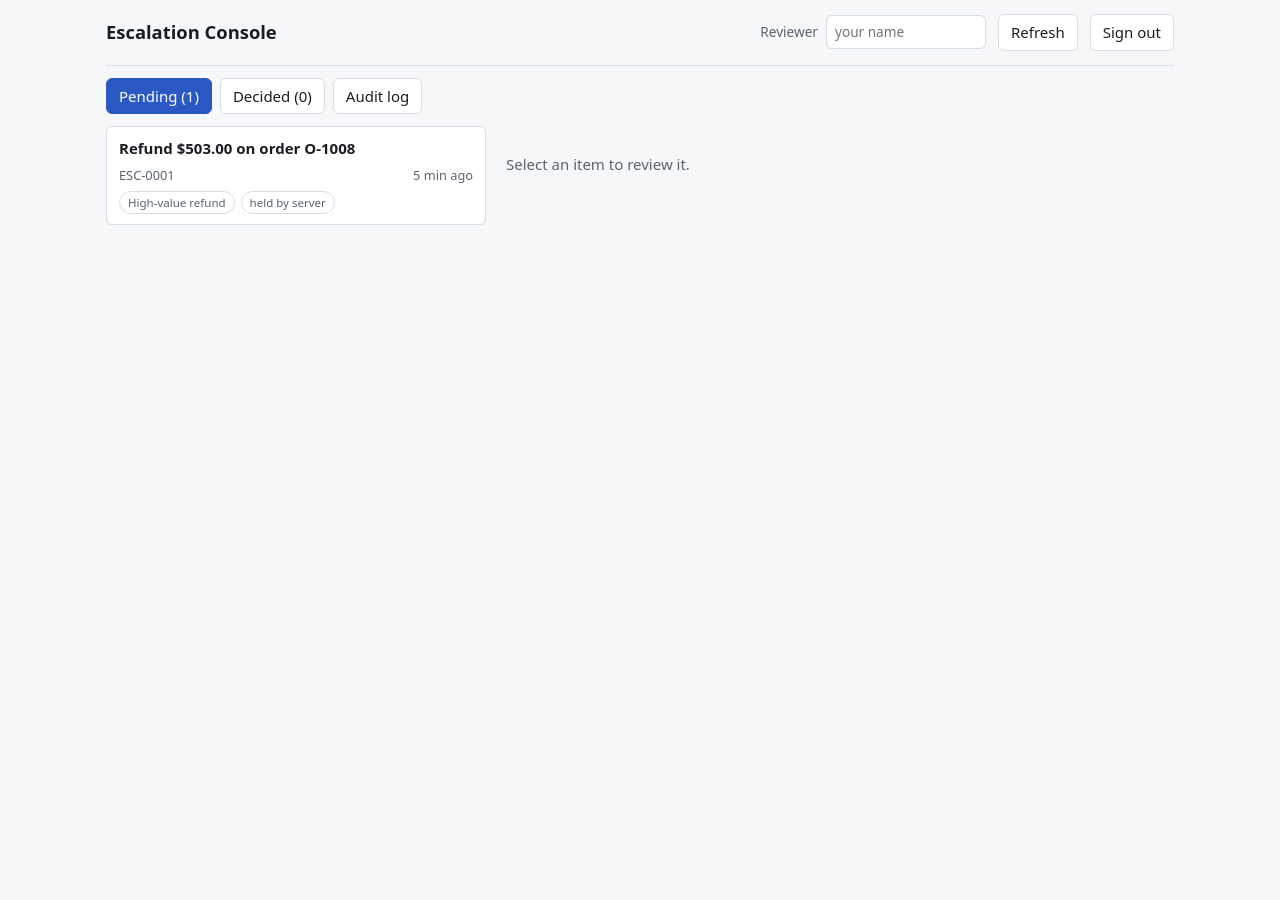
Test: Console › explains that a server-side hold has no user request
This screenshot has width=1280, height=900.
Click the button "Refund $503.00". click: click(237, 148)
box: [106, 126, 486, 225]
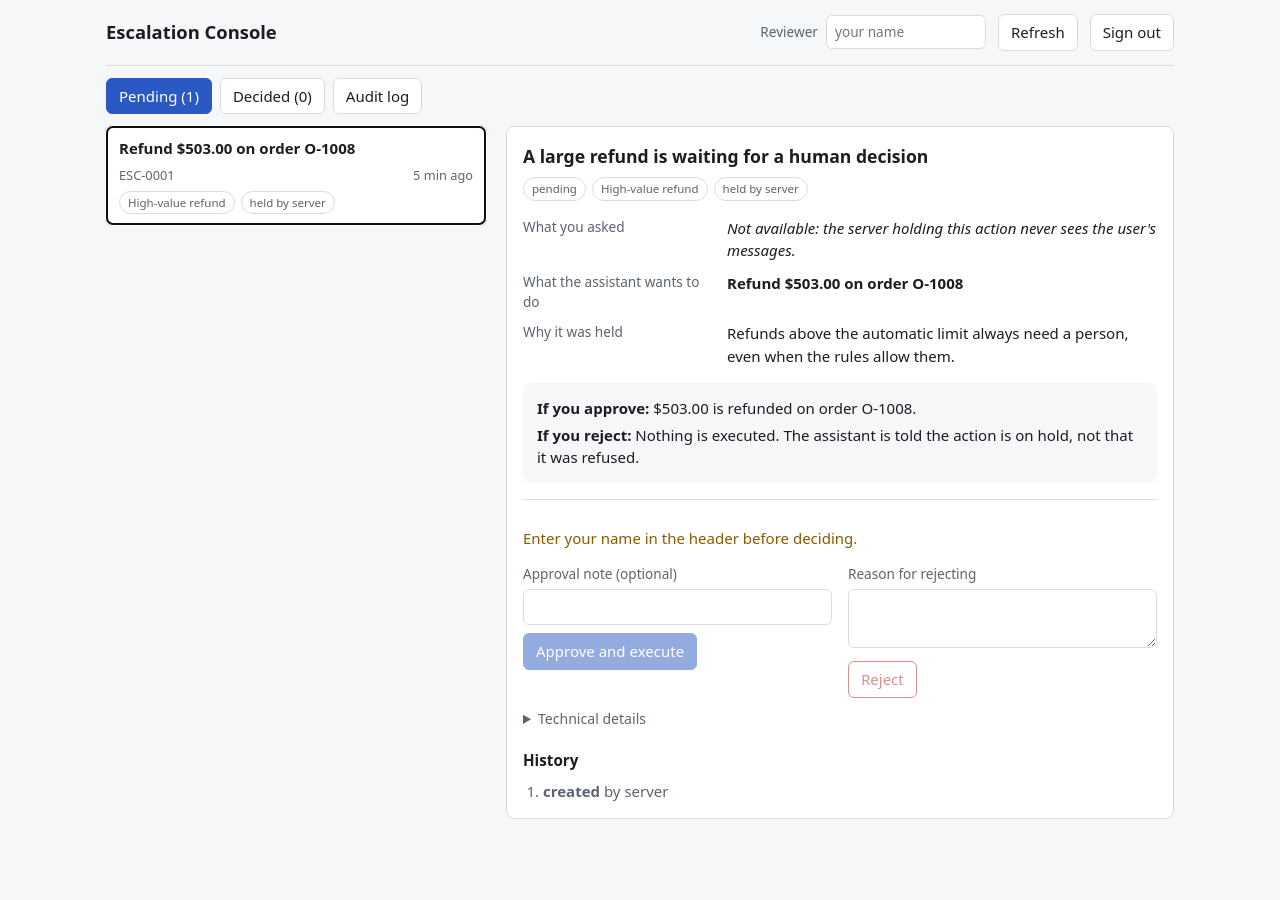
Result: the text "never sees the user's messages" is shown at [727, 218, 1156, 260]
